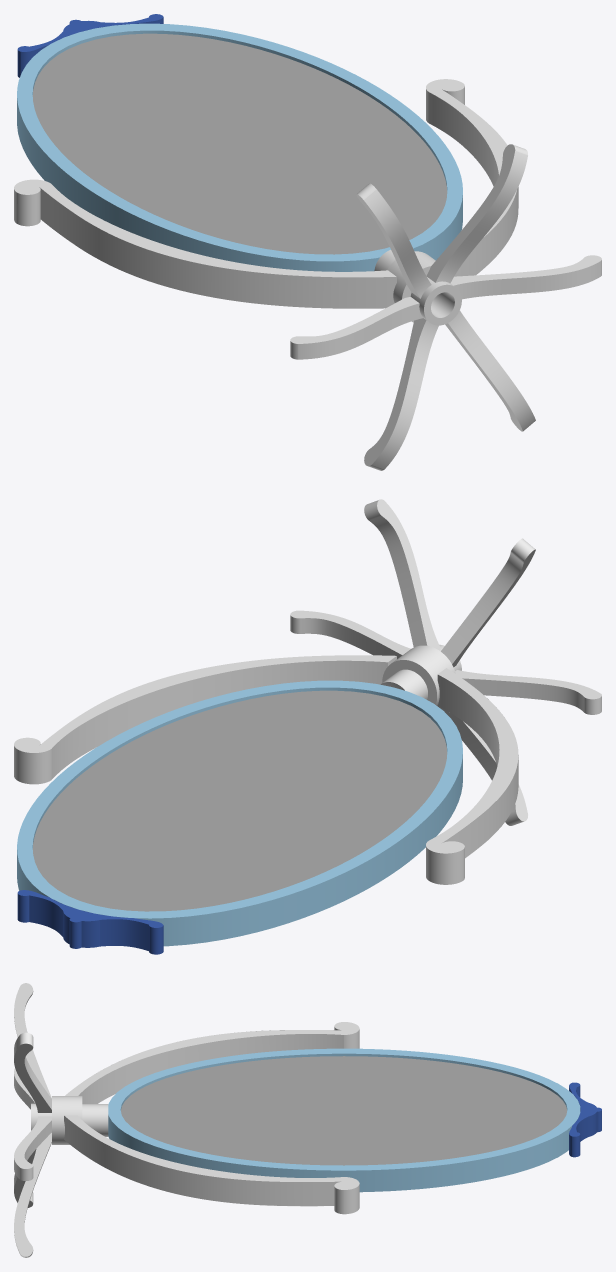
Rendered from Mirror.dae.
3 renders of one model, top to bottom at view 1: azimuth 30°, elevation 25°; view 2: azimuth 150°, elevation 25°; view 3: azimuth 270°, elevation 25°, orthographic. The views are drawn at different scales.
Parts seen in each view (by area): view 1: 683c8da5ca486b08201f5558 (×4); view 2: 683c8da5ca486b08201f5558 (×4); view 3: 683c8da5ca486b08201f5558 (×4).
Part boxes in pixels (<box>): 683c8da5ca486b08201f5558 (×4): <box>14,14,601,470</box>; 683c8da5ca486b08201f5558 (×4): <box>14,499,601,954</box>; 683c8da5ca486b08201f5558 (×4): <box>14,983,601,1257</box>.
Size of the model in its own units: 0.0758 by 0.112 by 0.0475.
